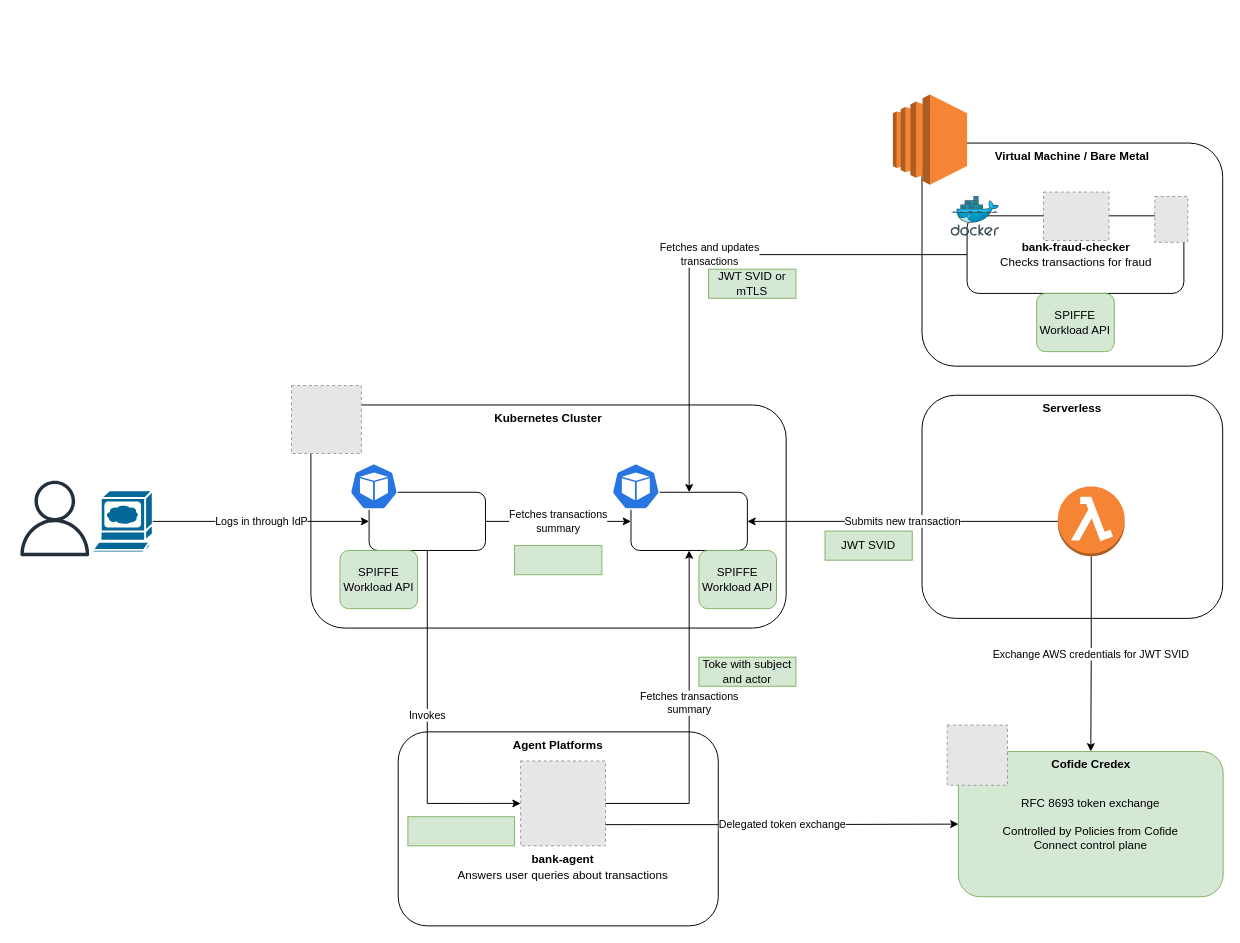
This 1240x943 diagram has some shape labels left out. Grey dashed boxes stand in for pictures. The centre of each missing label's shape, as x and y in pixels:
"Agent cannot re-use user token" belongs at [461,831].
"bank-client Serves UI" belongs at [426,520].
"bank-lambda Submits new transactions" belongs at [1091,520].
"bank-server Holds ledger" belongs at [688,520].
"mTLS" belongs at [558,560].
